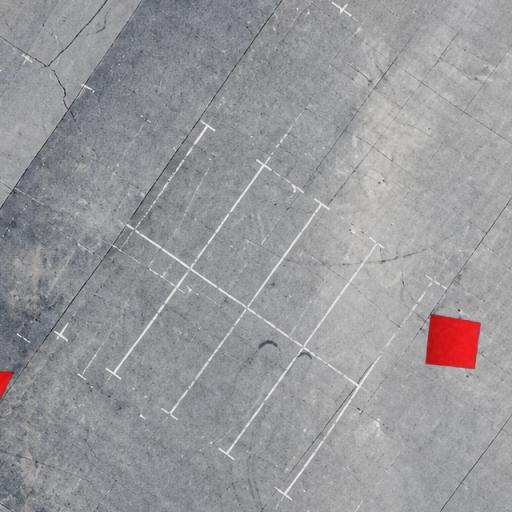RED_SQUARE: (424, 314, 481, 370)
